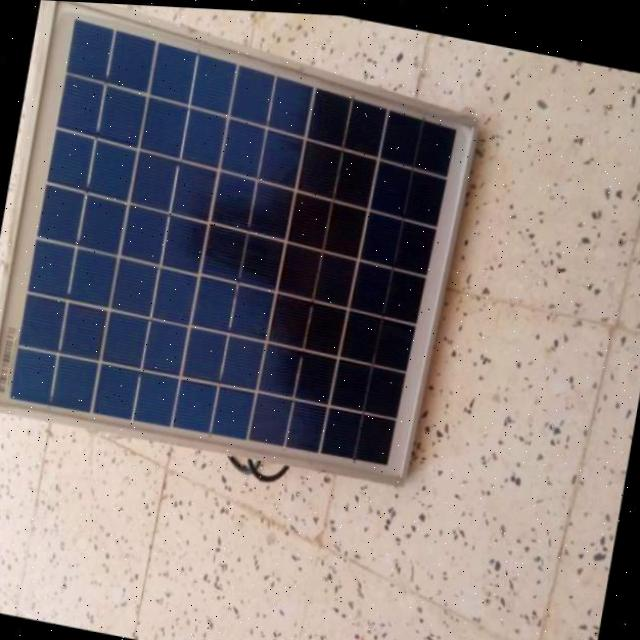Normal Solar Panel: (1, 1, 487, 488)
